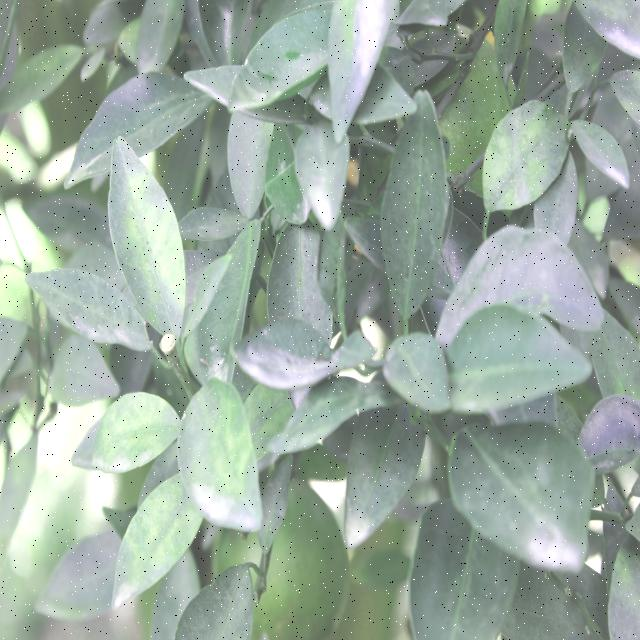blackspot: (236, 316, 340, 386), (126, 176, 174, 310), (268, 234, 322, 315)
